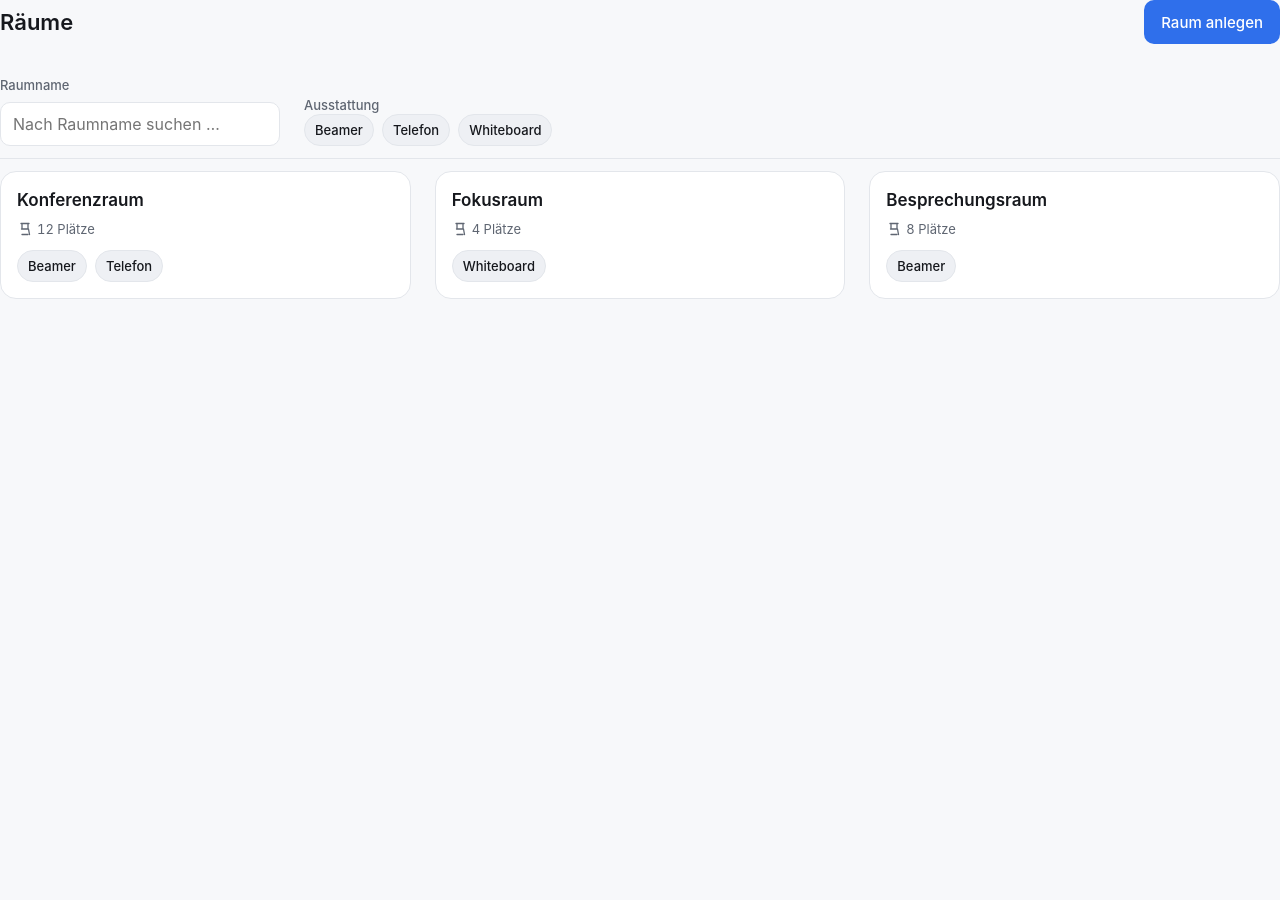
Scenario: RoomsPage › opens the create-room modal from the page head and closes it with Escape
This screenshot has width=1280, height=900.
Expected: the text "Konferenzraum" is shown, [17,190,144,210]
Click the button "Raum anlegen".
click(1212, 22)  # box [1144,0,1279,44]
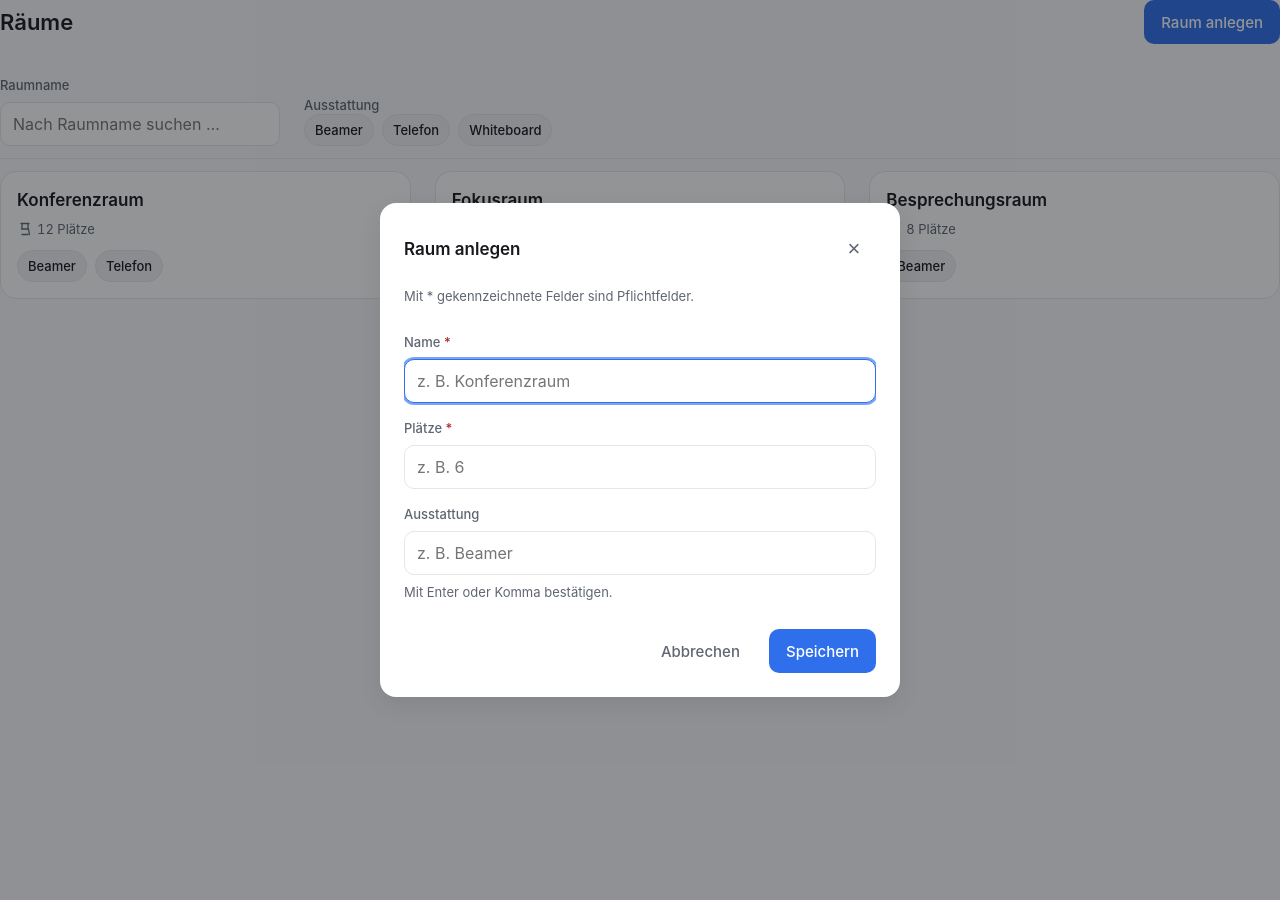
Expected: the heading "Raum anlegen" is shown, [404,237,520,261]
Expected: the button "Abbrechen" is shown, [644,629,757,673]
Expected: the button "Speichern" is shown, [769,629,876,673]
Press Escape
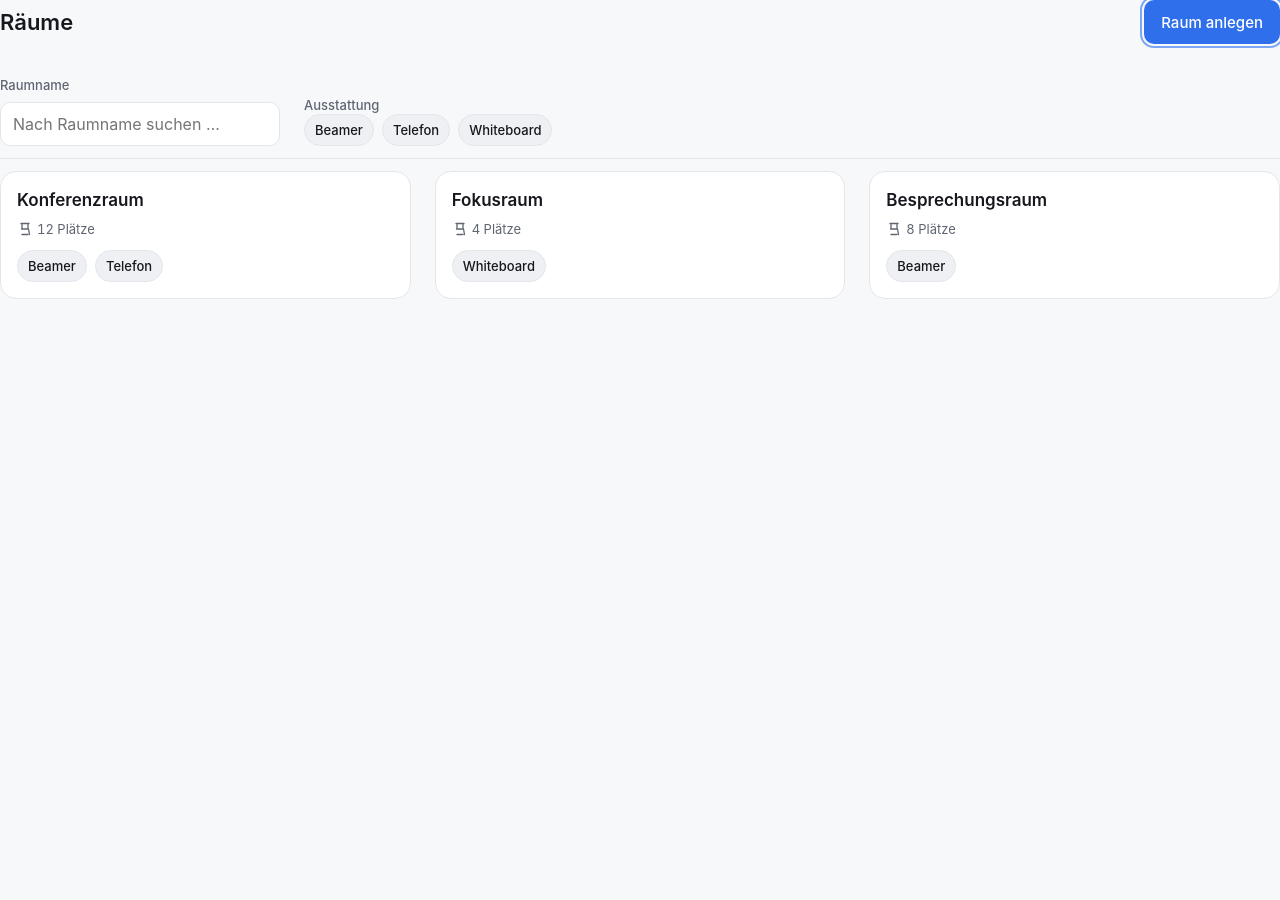
Expected: the dialog is gone
